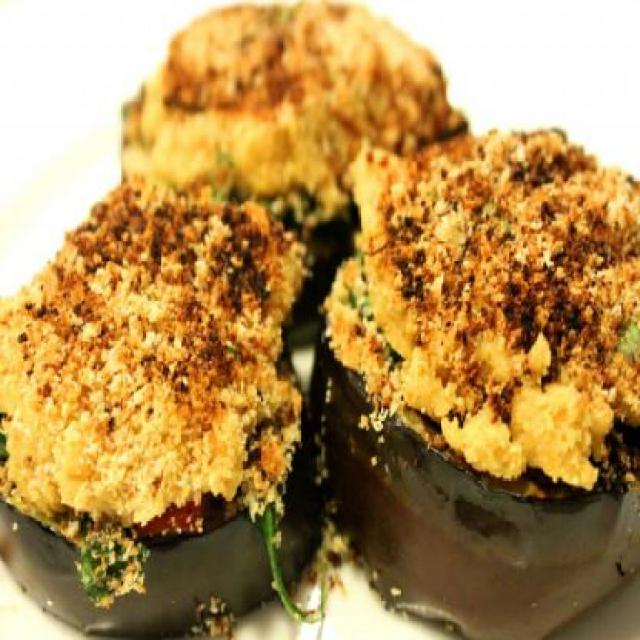eggplant: (1, 482, 639, 636), (269, 193, 362, 324)
hummus: (1, 3, 633, 499)
